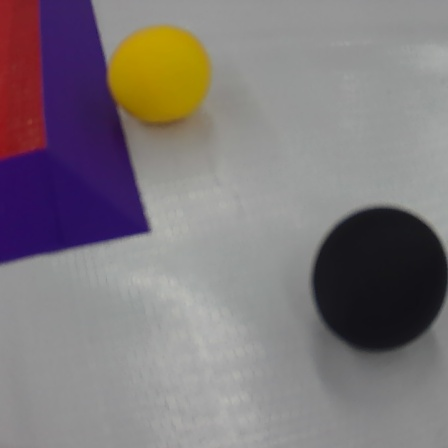black: (310, 206, 448, 352)
red_aim: (0, 0, 158, 265)
yellow: (105, 20, 212, 129)
